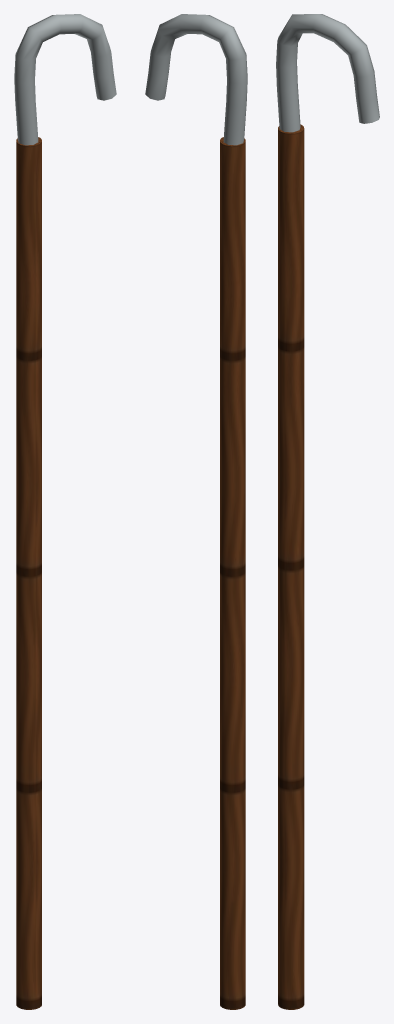
Rendered from flooded-and-coastal-survival-boat-hook-0a0fcc5d__20085.glb.
3 renders of one model, left to right at view 1: azimuth 30°, elevation 25°; view 2: azimuth 150°, elevation 25°; view 3: azimuth 330°, elevation 25°, orthographic.
Visible parts, largest first — view 1: boat-hook; view 2: boat-hook; view 3: boat-hook.
Boxes of the visible parts, box(x1,y1,x2,y2) form: boat-hook: box(14, 14, 116, 1009); boat-hook: box(145, 14, 247, 1009); boat-hook: box(276, 14, 379, 1009).
Size of the model in its own units: 0.1944 by 1.82 by 0.0439.
Materials: 2 (1 with a texture image).
